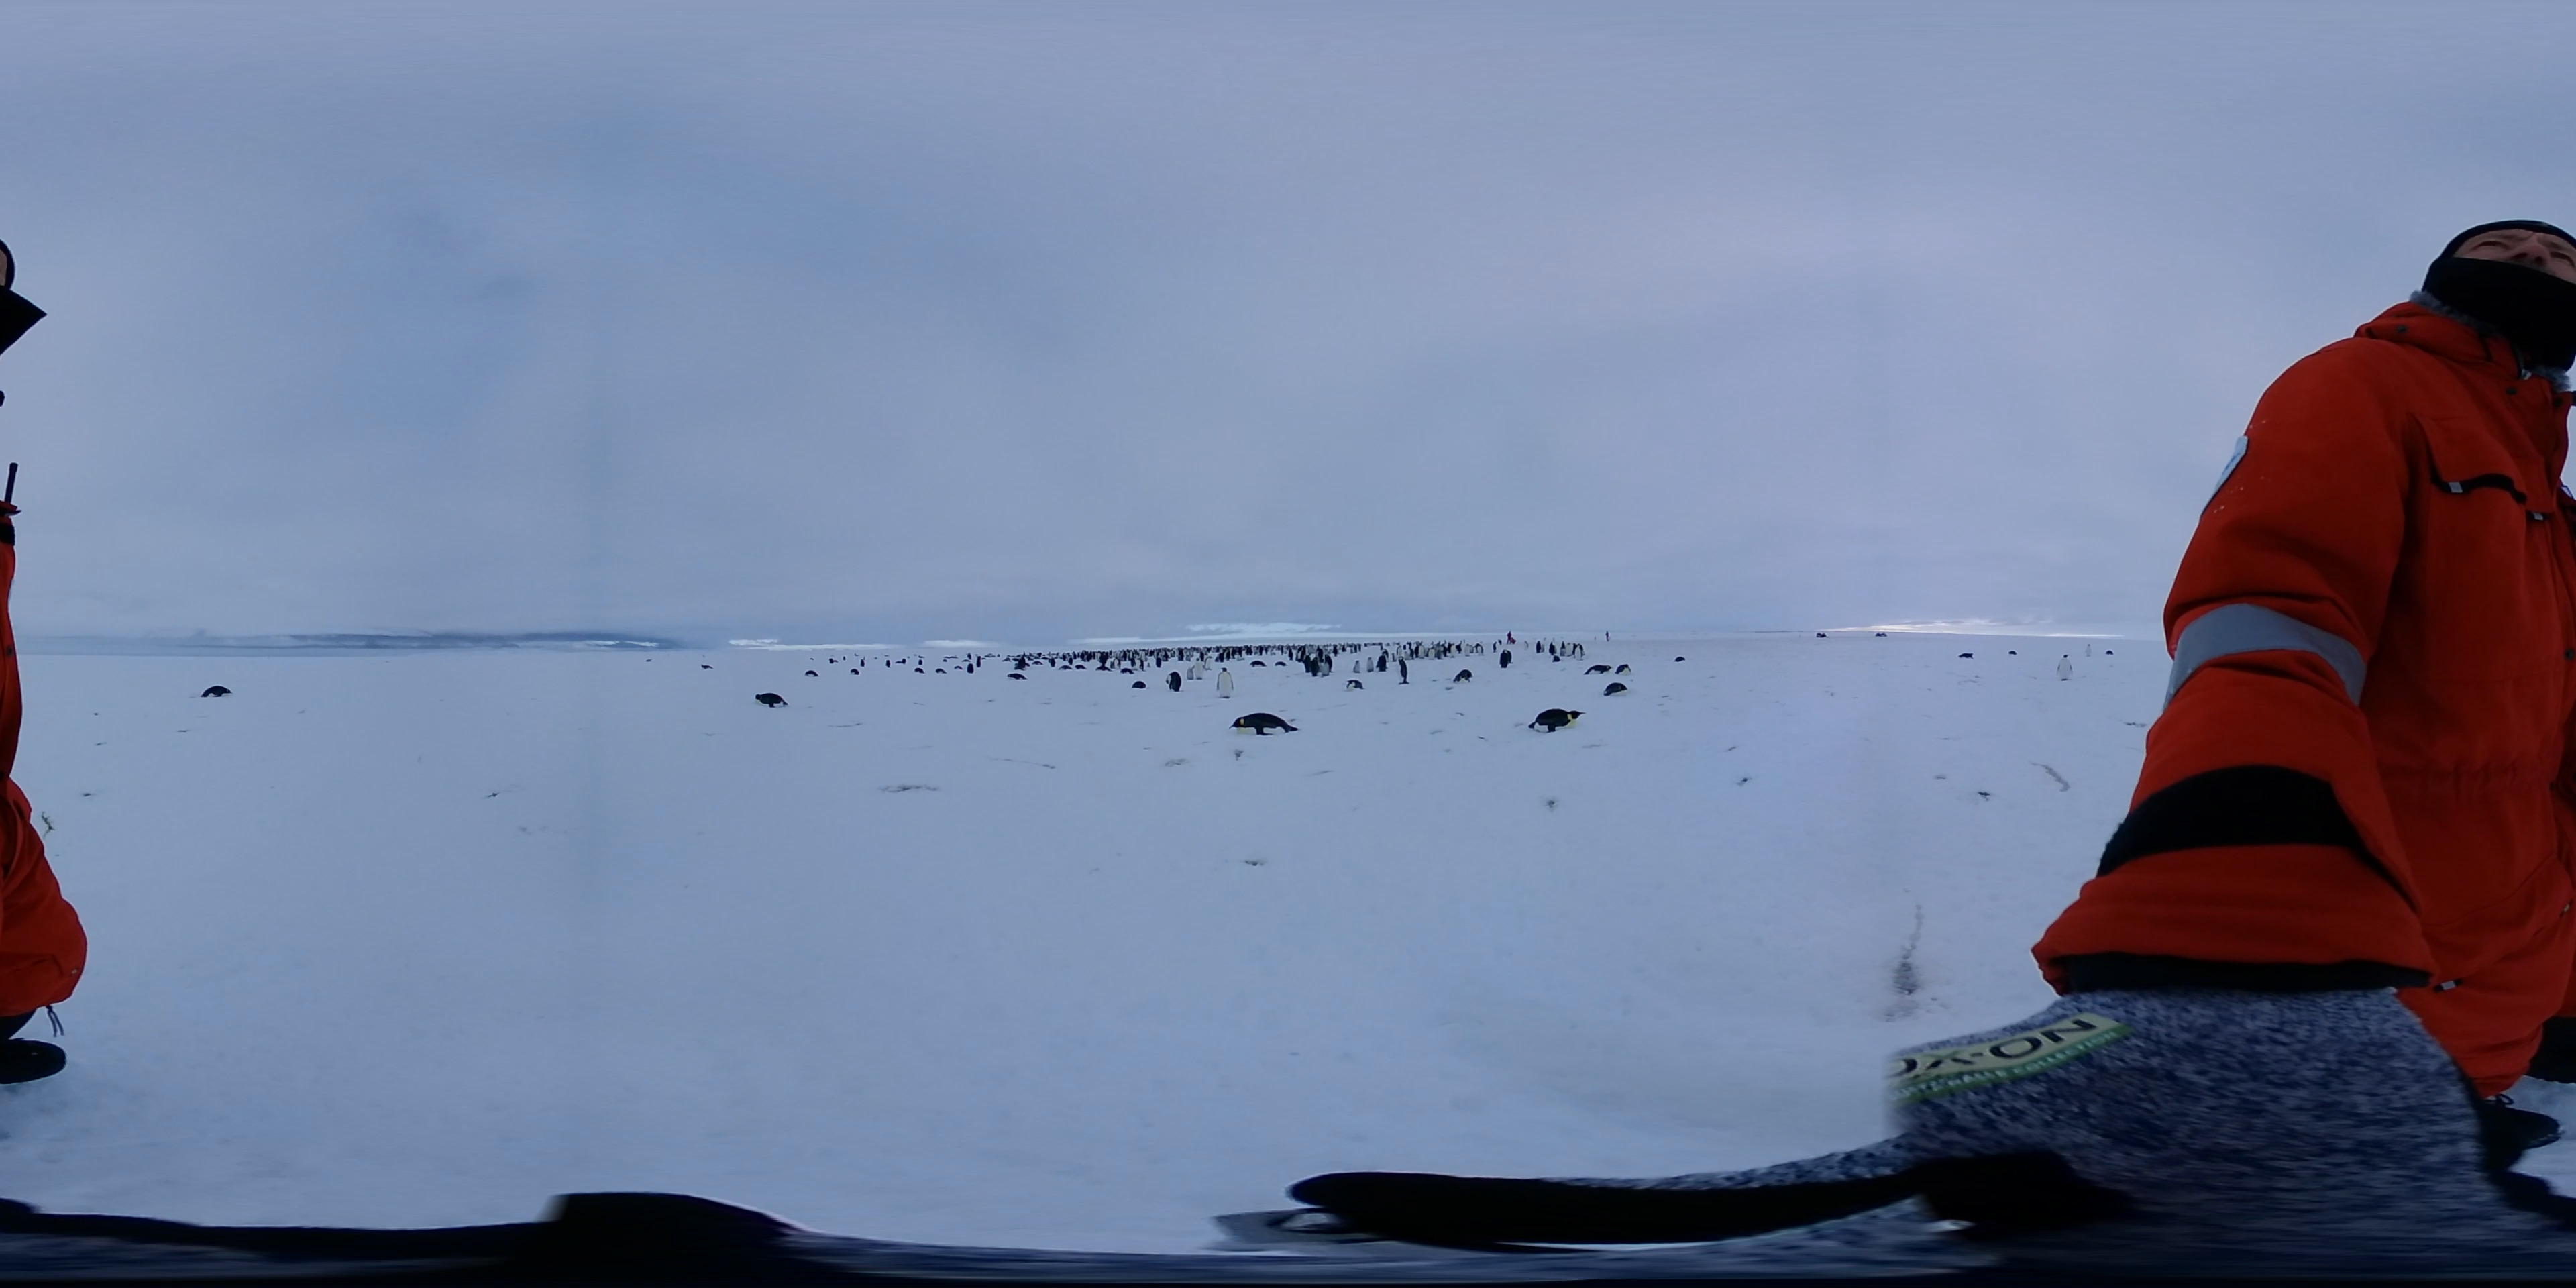adult_standing_penguin: (1212, 665, 1235, 700), (2052, 652, 2075, 687), (1163, 670, 1181, 695), (1396, 654, 1410, 687), (1189, 655, 1204, 680), (1308, 655, 1322, 678), (1498, 647, 1511, 670), (2083, 641, 2093, 659)
adult_toboggan_penguin: (1525, 706, 1590, 734), (1230, 711, 1299, 738), (197, 680, 235, 701), (751, 692, 787, 711), (1600, 682, 1631, 698), (1584, 664, 1613, 678), (1342, 677, 1362, 693), (1002, 670, 1025, 682), (1454, 670, 1469, 685), (1617, 662, 1633, 675), (1958, 649, 1975, 662), (1672, 655, 1686, 662)
juvenile_penguin: (1365, 655, 1373, 674), (1184, 665, 1191, 682), (1350, 659, 1357, 674)
researcher: (2006, 202, 2576, 1193), (0, 218, 74, 1099)
